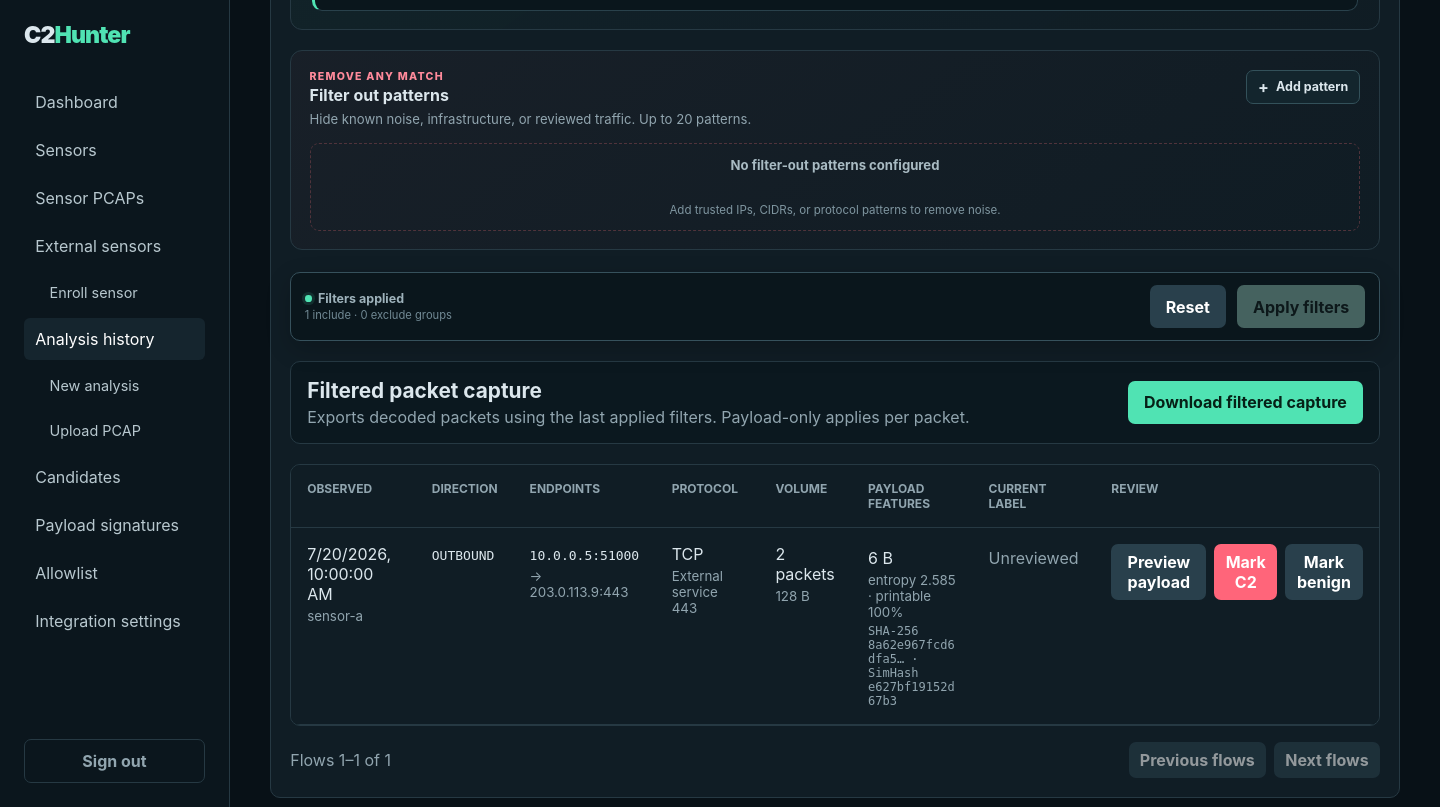
Test: C2Hunter UI › explains when a filtered export cannot scan a complete first packet
The image size is (1440, 807).
(page scrolled)
Expected: the table named "Analysis flows" is shown, [291, 465, 1379, 725]
Click the button "Download filtered capture".
click(1245, 402)  # box [1128, 381, 1363, 424]
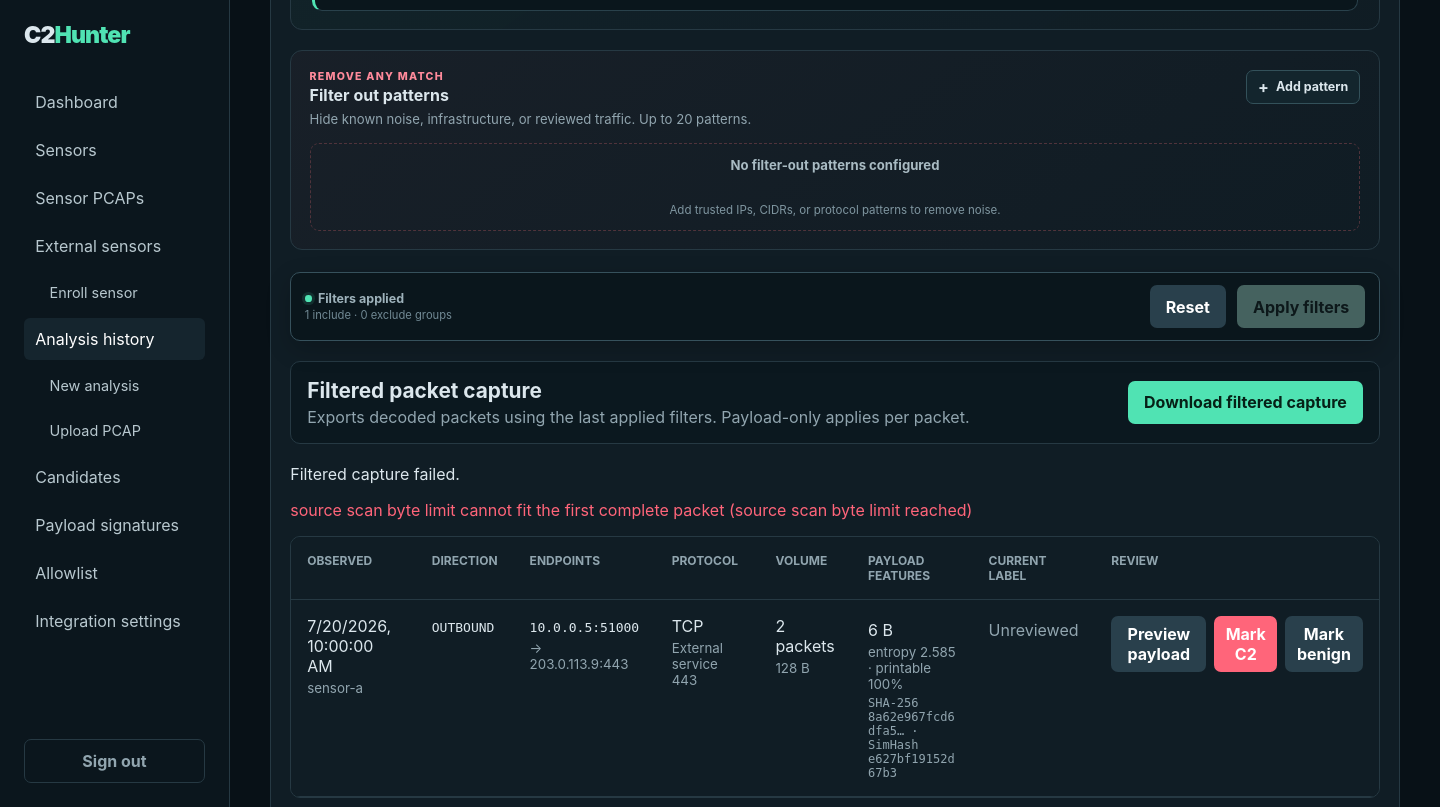
Now the 2nd message shows "source scan byte limit cannot fit the first complete packet (source scan byte limit reached)", box [290, 500, 972, 520]
